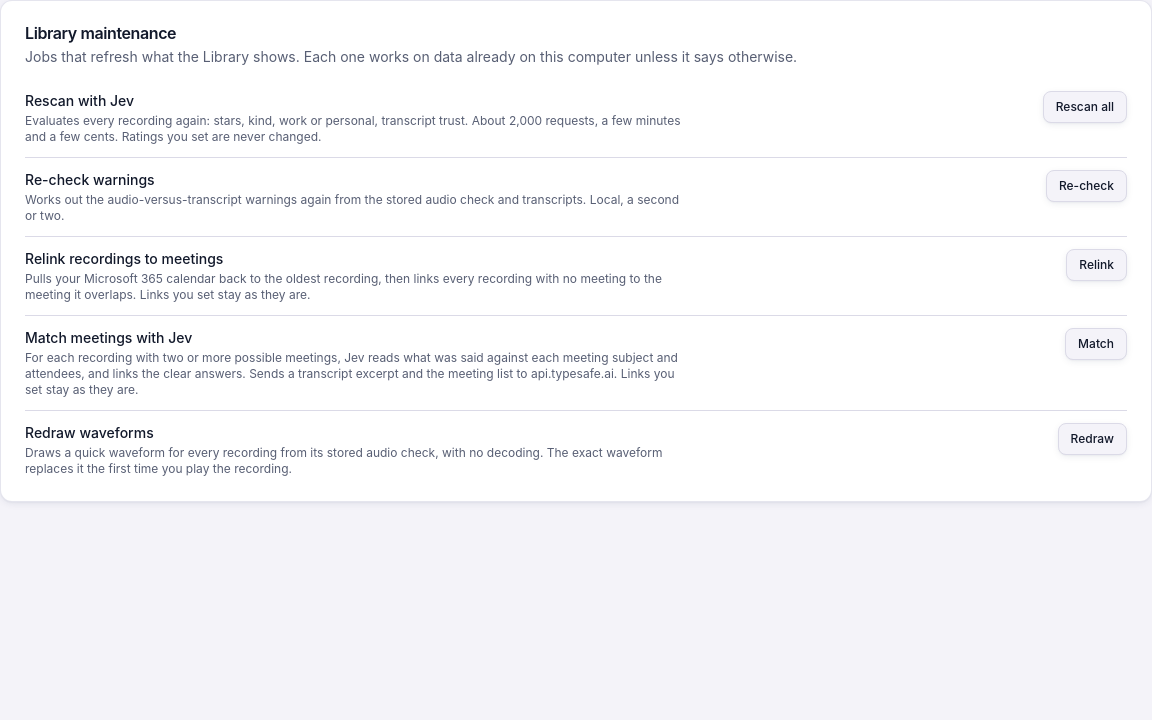
Test: LibraryMaintenanceCard › relinks and reports linked and still-unlinked recordings
Click the button with aria-label "Relink recordings to meetings" at (1097,265), box 1066,249 -> 1127,281
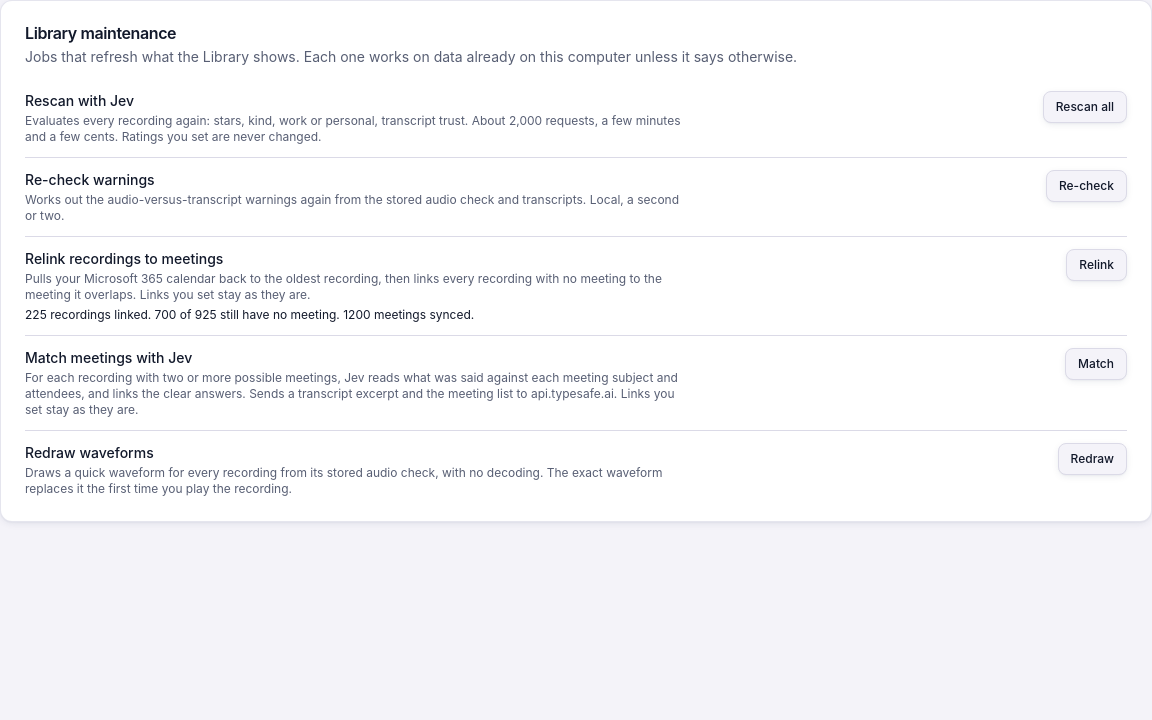
Expected: the text with test id "maintenance-result-relink" reads "225 recordings linked. 700 of 925 still have no meeting. 1200 meetings synced.", 25,307 -> 474,322
